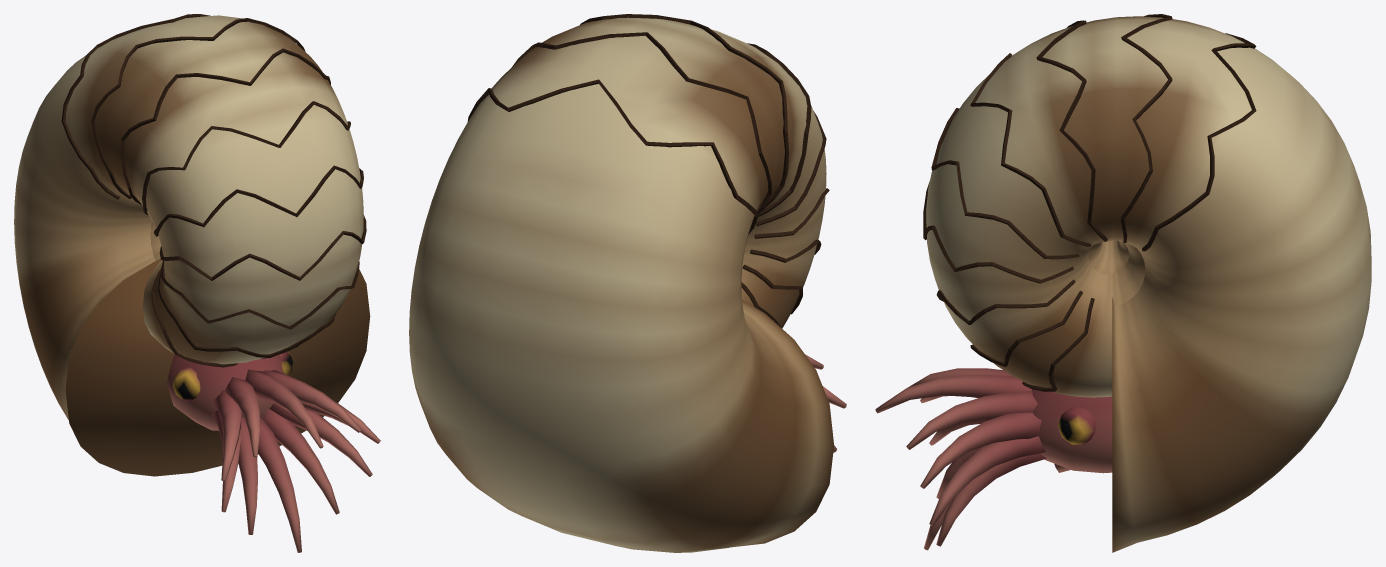
Rendered from Goniatites.fbx.
3 renders of one model, left to right at view 1: azimuth 30°, elevation 25°; view 2: azimuth 150°, elevation 25°; view 3: azimuth 270°, elevation 25°, orthographic. The views are drawn at different scales.
Parts seen in each view (by area): view 1: Goniatites; view 2: Goniatites; view 3: Goniatites.
Part boxes in pixels (box(x1,y1,x2,y2)): Goniatites: box(14, 14, 380, 552); Goniatites: box(409, 14, 846, 552); Goniatites: box(875, 14, 1371, 552).
Size of the model in its own units: 1.31 by 1.85 by 1.62.
